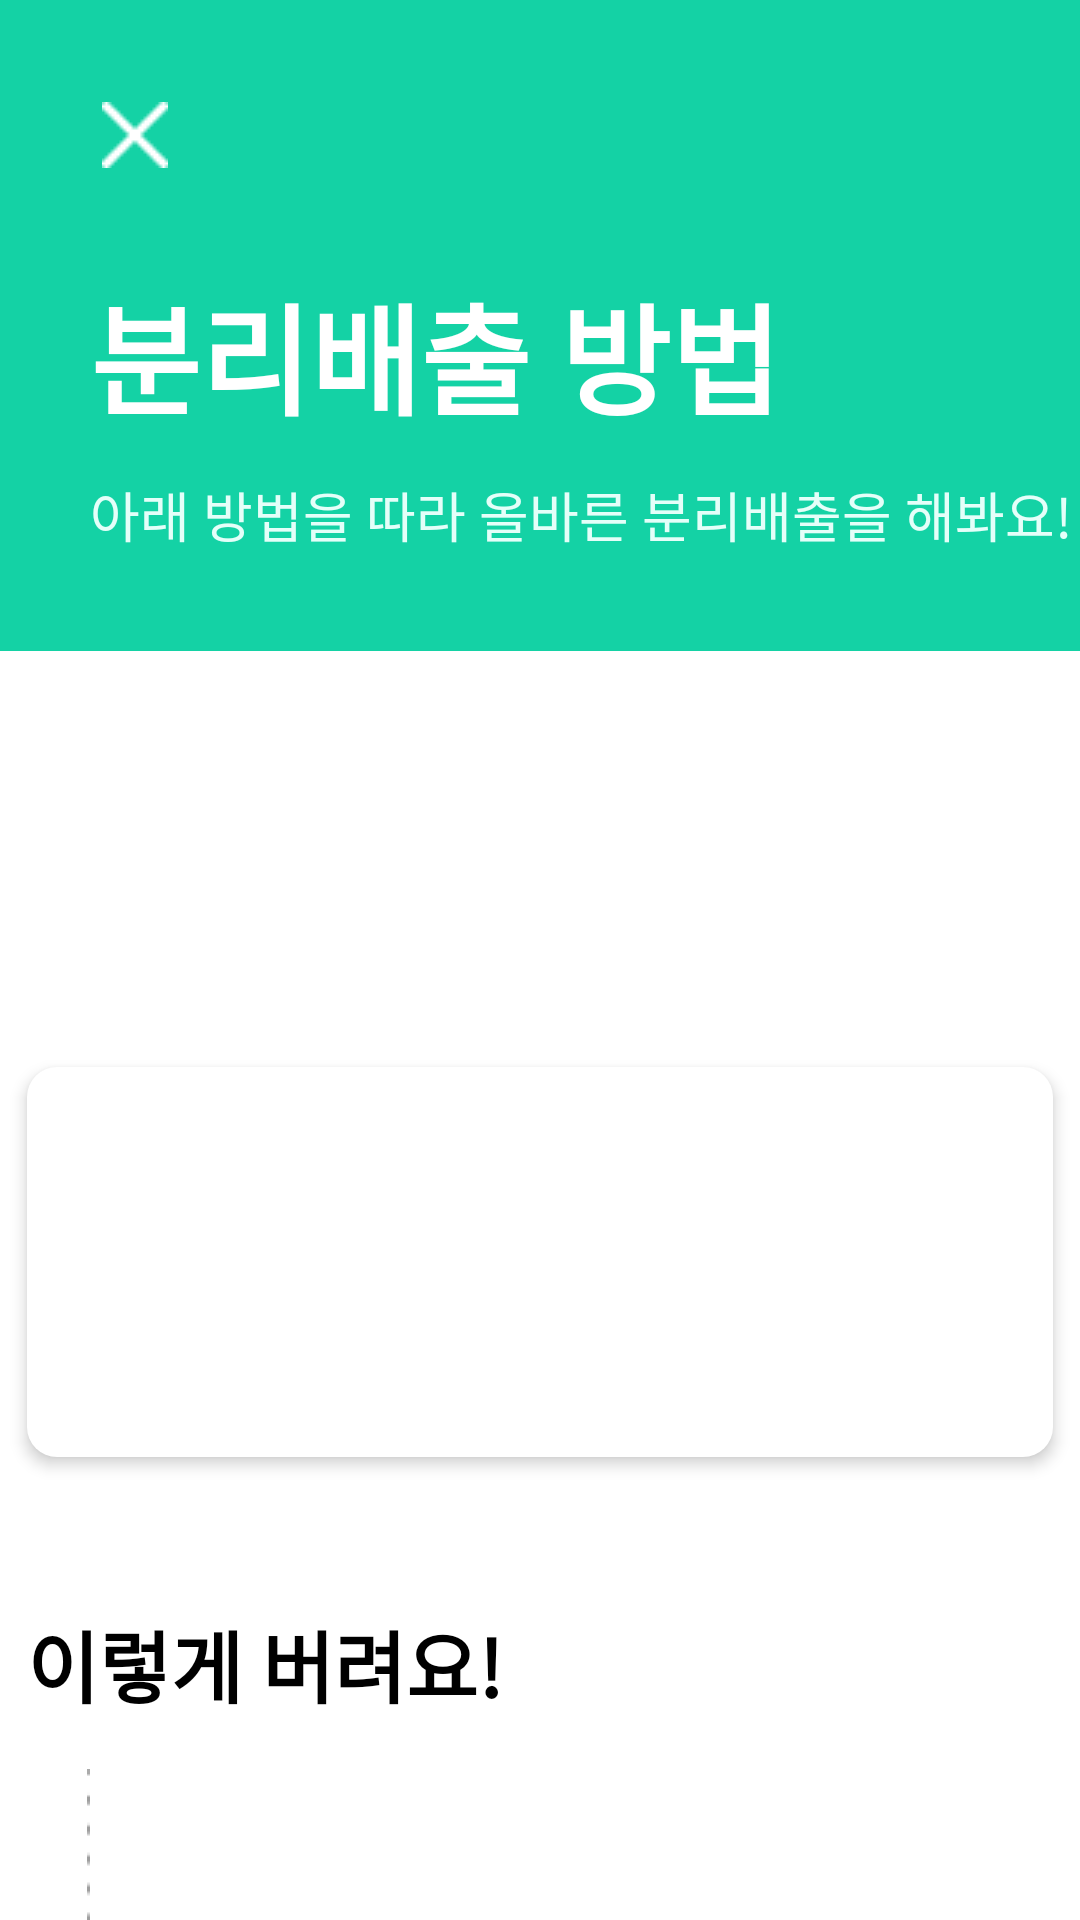

Locate icon controls on the screen. Image size 1080x1920, boxes as bbox(x1, y1, x2, y2).
close: bbox(102, 102, 168, 168)
